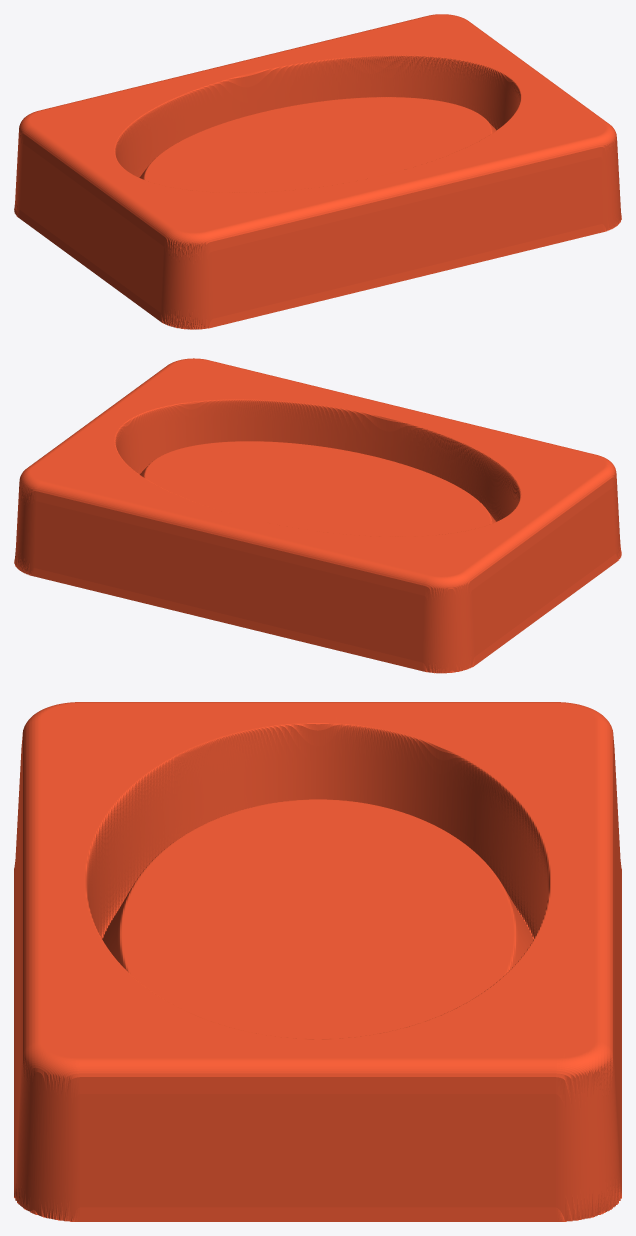
File: mold.glb
The picture shows the model from 3 angles, top to bottom: view 1: azimuth 30°, elevation 25°; view 2: azimuth 150°, elevation 25°; view 3: azimuth 270°, elevation 25°; orthographic projection. The views are drawn at different scales.
Parts seen in each view (by area): view 1: geometry_0; view 2: geometry_0; view 3: geometry_0.
Part boxes in pixels (x1=…): geometry_0: x1=14, y1=14, x2=621, y2=329; geometry_0: x1=14, y1=358, x2=621, y2=673; geometry_0: x1=14, y1=702, x2=621, y2=1221.
Size of the model in its own units: 0.1219 by 0.023 by 0.0831.
